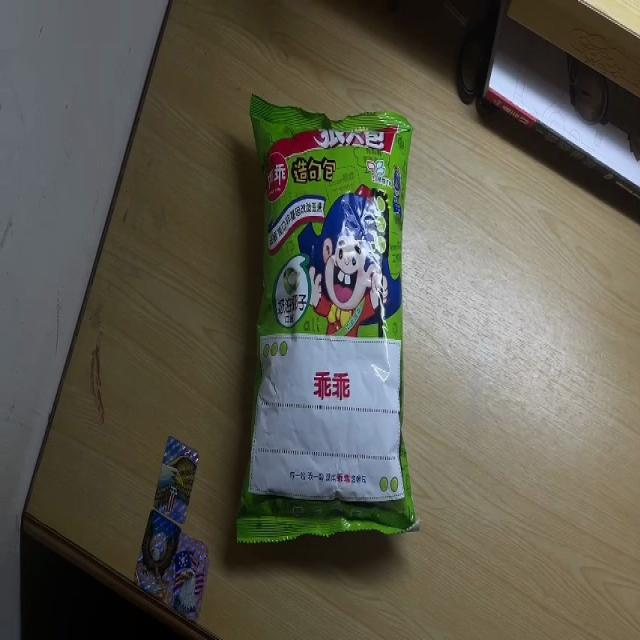Good-Luck: (235, 92, 421, 544)
